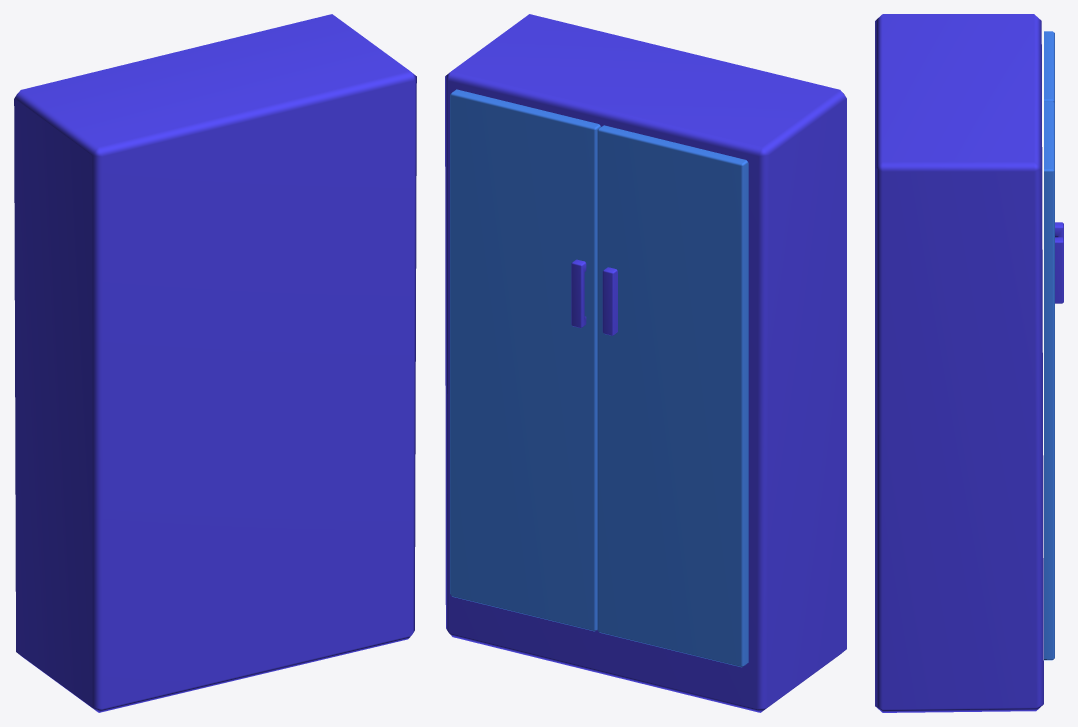
File: Closet.fbx
3 renders of one model, left to right at view 1: azimuth 30°, elevation 25°; view 2: azimuth 150°, elevation 25°; view 3: azimuth 270°, elevation 25°, orthographic. The views are drawn at different scales.
Visible parts, largest first — view 1: Closet; view 2: Closet; view 3: Closet.
Part boxes in pixels (<box>): Closet: <box>14,14,416,712</box>; Closet: <box>445,14,846,712</box>; Closet: <box>875,14,1063,712</box>.
Size of the model in its own units: 119 by 199 by 61.74.
